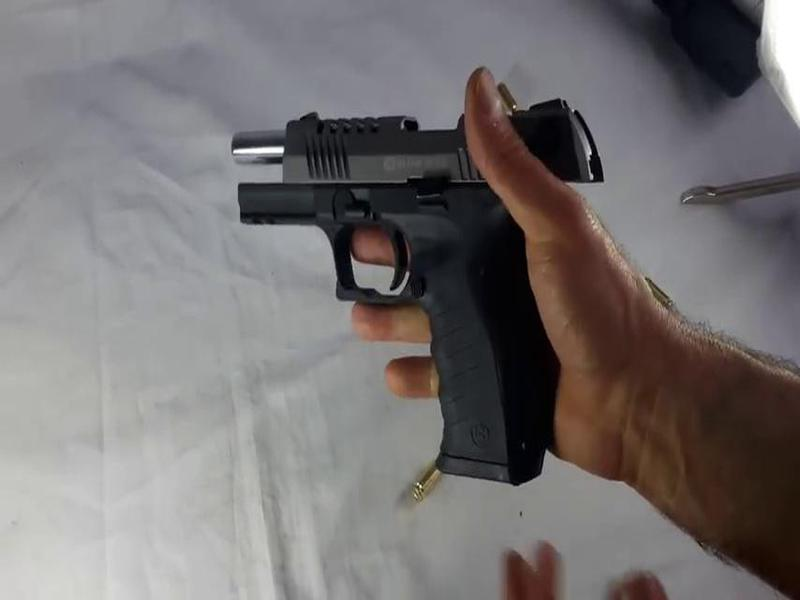Pistola: (210, 100, 605, 489)
